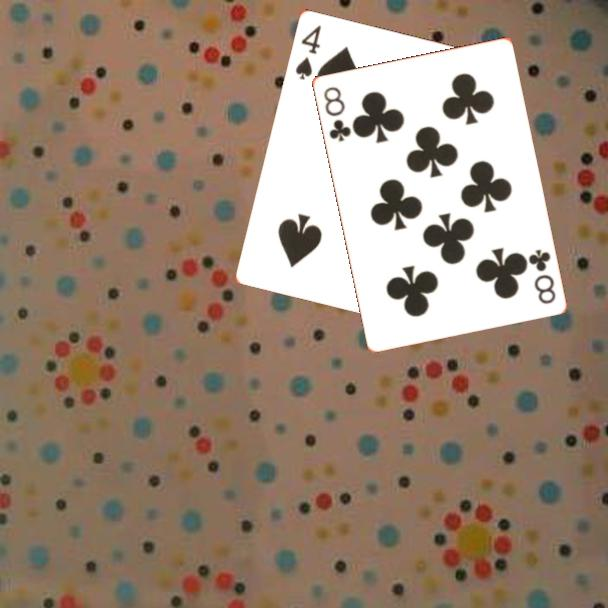c08: (320, 83, 354, 144), (525, 245, 558, 307)
s04: (292, 22, 324, 82)
